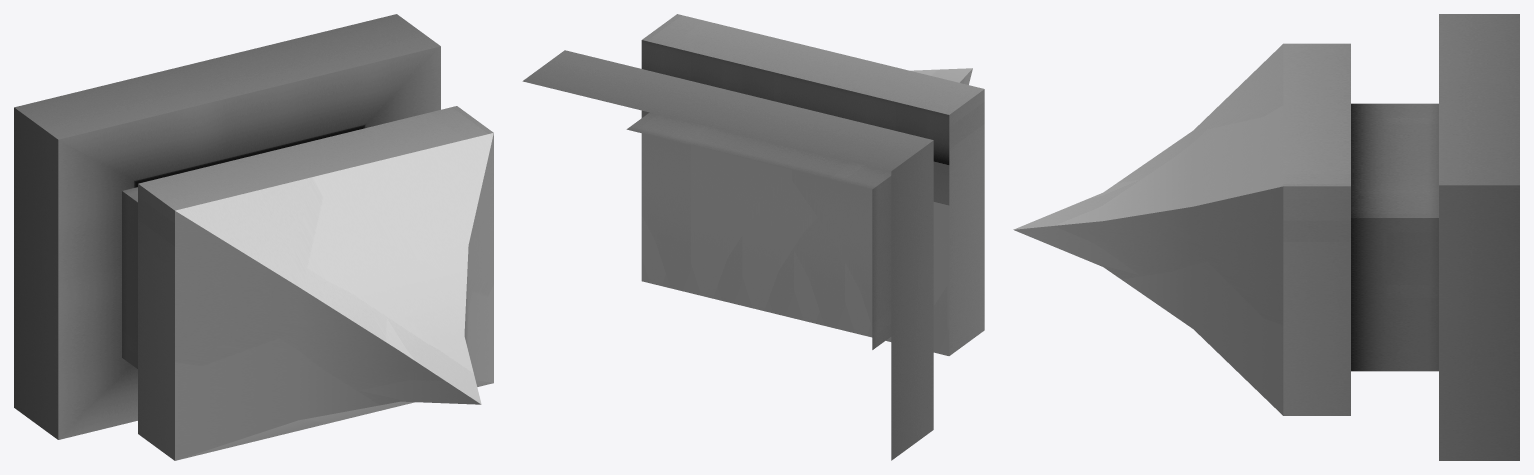
The model's file is crenel_set.glb.
3 renders of one model, left to right at view 1: azimuth 30°, elevation 25°; view 2: azimuth 150°, elevation 25°; view 3: azimuth 270°, elevation 25°, orthographic. The views are drawn at different scales.
Parts seen in each view (by area): view 1: castle_fire.crenel_set-Mesh[0]; view 2: castle_fire.crenel_set-Mesh[0]; view 3: castle_fire.crenel_set-Mesh[0].
Part boxes in pixels (left/top/right/bottom): castle_fire.crenel_set-Mesh[0]: left=14, top=14, right=493, bottom=460; castle_fire.crenel_set-Mesh[0]: left=522, top=14, right=984, bottom=460; castle_fire.crenel_set-Mesh[0]: left=1013, top=14, right=1519, bottom=460.
Size of the model in its own units: 1.2 by 0.9 by 1.5.
Materials: 1 (1 with a texture image).
